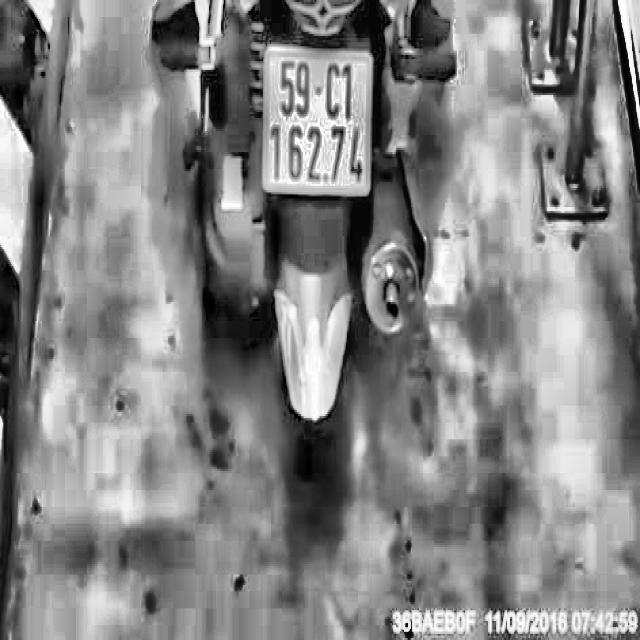plate: (258, 34, 376, 204)
